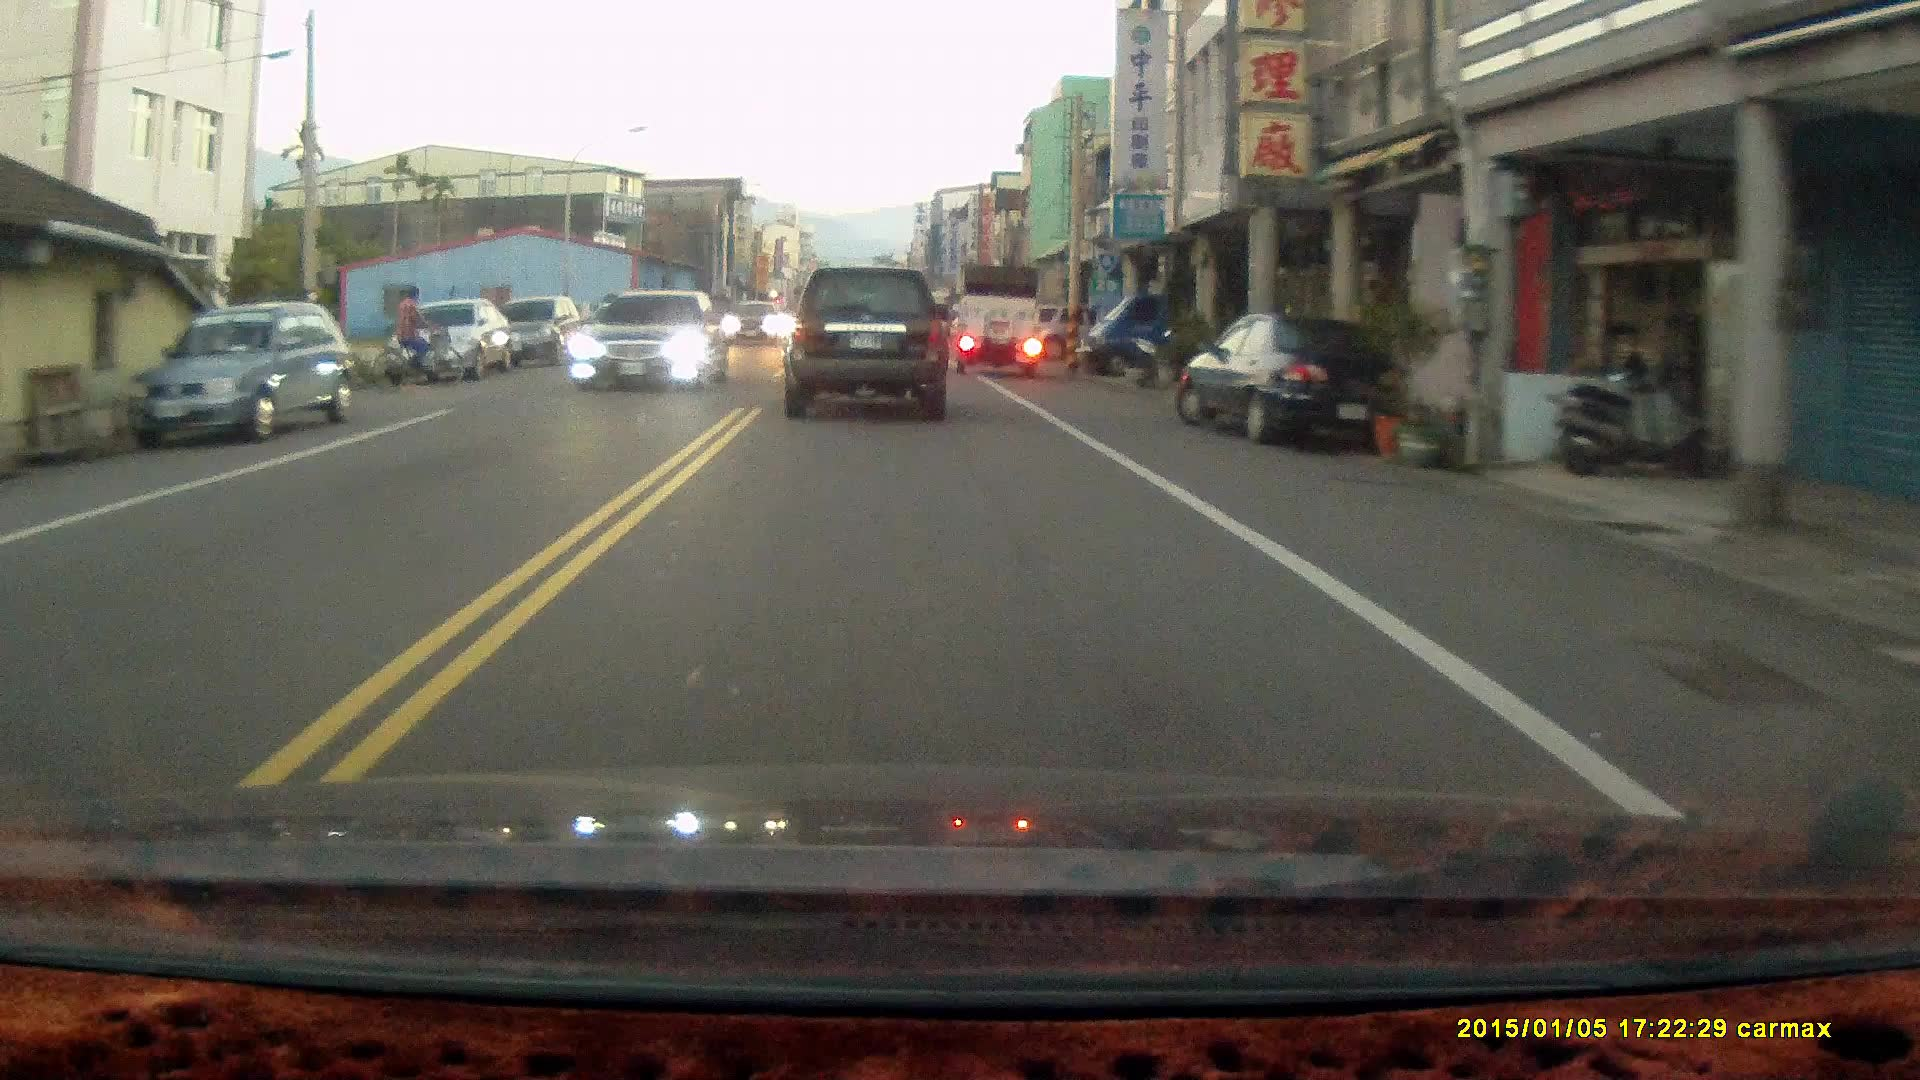rider: (362, 279, 466, 384)
vehicle: (128, 301, 355, 445), (1180, 311, 1405, 445), (788, 268, 956, 425), (569, 290, 725, 400), (1077, 278, 1221, 379), (387, 293, 517, 381), (951, 258, 1042, 373), (490, 296, 581, 367), (728, 302, 792, 347)
